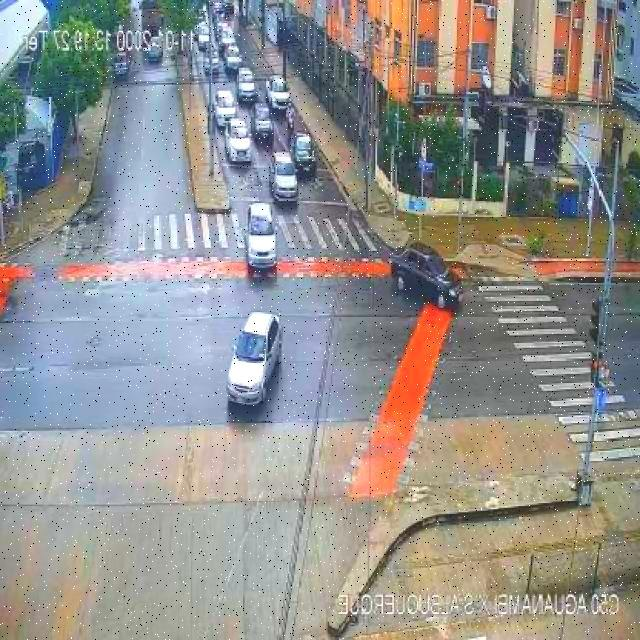Car: (219, 305, 287, 419), (388, 243, 463, 308), (245, 202, 277, 270), (269, 153, 299, 200), (225, 120, 253, 163), (291, 133, 316, 175), (213, 90, 237, 130), (266, 75, 290, 114), (251, 106, 274, 142), (236, 70, 258, 103), (113, 52, 131, 78), (224, 52, 243, 74), (145, 40, 163, 63), (202, 52, 220, 75), (220, 30, 236, 53), (197, 25, 210, 51)
Cycle: (280, 106, 308, 138)
